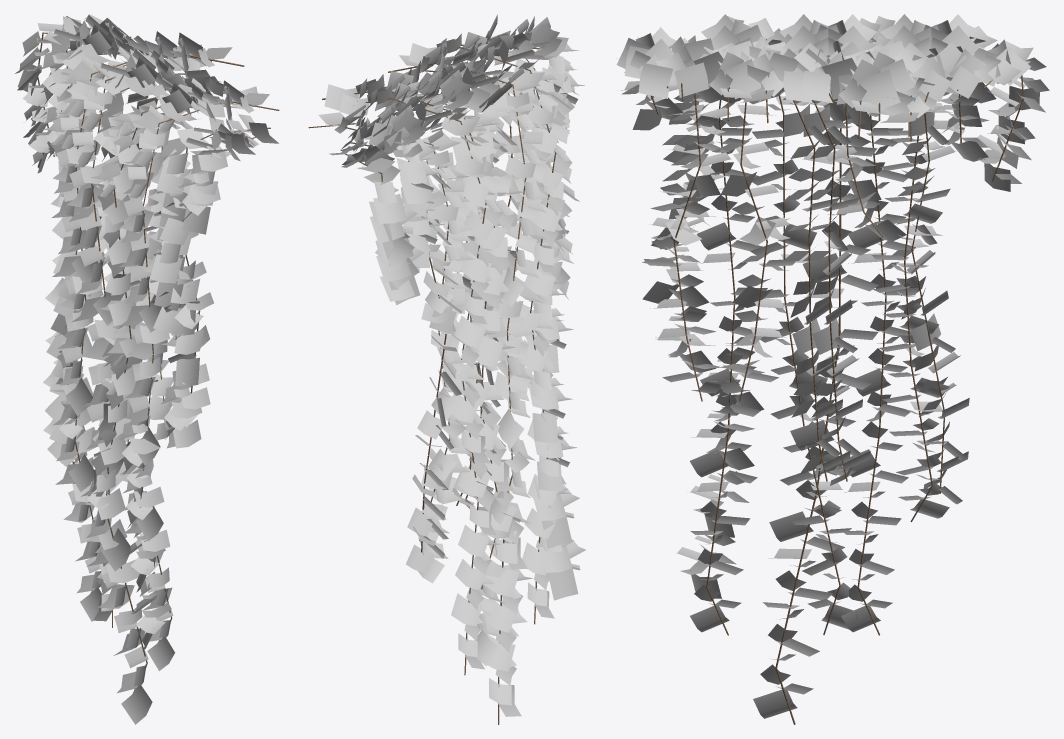
File: LargeIvy.FBX
3 renders of one model, left to right at view 1: azimuth 30°, elevation 25°; view 2: azimuth 150°, elevation 25°; view 3: azimuth 270°, elevation 25°, orthographic. The views are drawn at different scales.
Parts seen in each view (by area): view 1: Object127, Plane019, Object197, Plane002, Object074, Object182, Object200, Object069, Object194; view 2: Object127, Plane019, Object074, Plane002, Object069, Object200, Object197, Object194, Object182; view 3: Object127, Object074, Plane019, Object197, Plane002, Object194, Object069, Object200, Object182.
Boxes of the visible parts, x1,y1,x2,y2 form: Object127: (67,32,259,724); Plane019: (118,80,279,670); Object197: (144,102,270,448); Plane002: (51,31,211,621); Object074: (42,24,205,483); Object182: (173,122,278,234); Object200: (39,15,134,159); Object069: (15,14,102,173); Object194: (130,92,238,439); Object127: (322,42,548,724); Plane019: (408,32,585,624); Object074: (308,95,474,583); Plane002: (339,83,510,675); Object069: (329,138,424,305); Object200: (341,105,444,267); Object197: (458,30,579,388); Object194: (424,55,539,401); Object182: (486,14,584,133); Object127: (736,14,900,724); Object074: (872,14,969,521); Plane019: (677,14,767,635); Object197: (642,35,731,401); Plane002: (841,16,918,635); Object194: (712,36,797,401); Object069: (973,39,1049,191); Object200: (923,14,997,161); Object182: (616,27,683,130).
Size of the model in its own units: 16.39 by 55.76 by 30.65.
